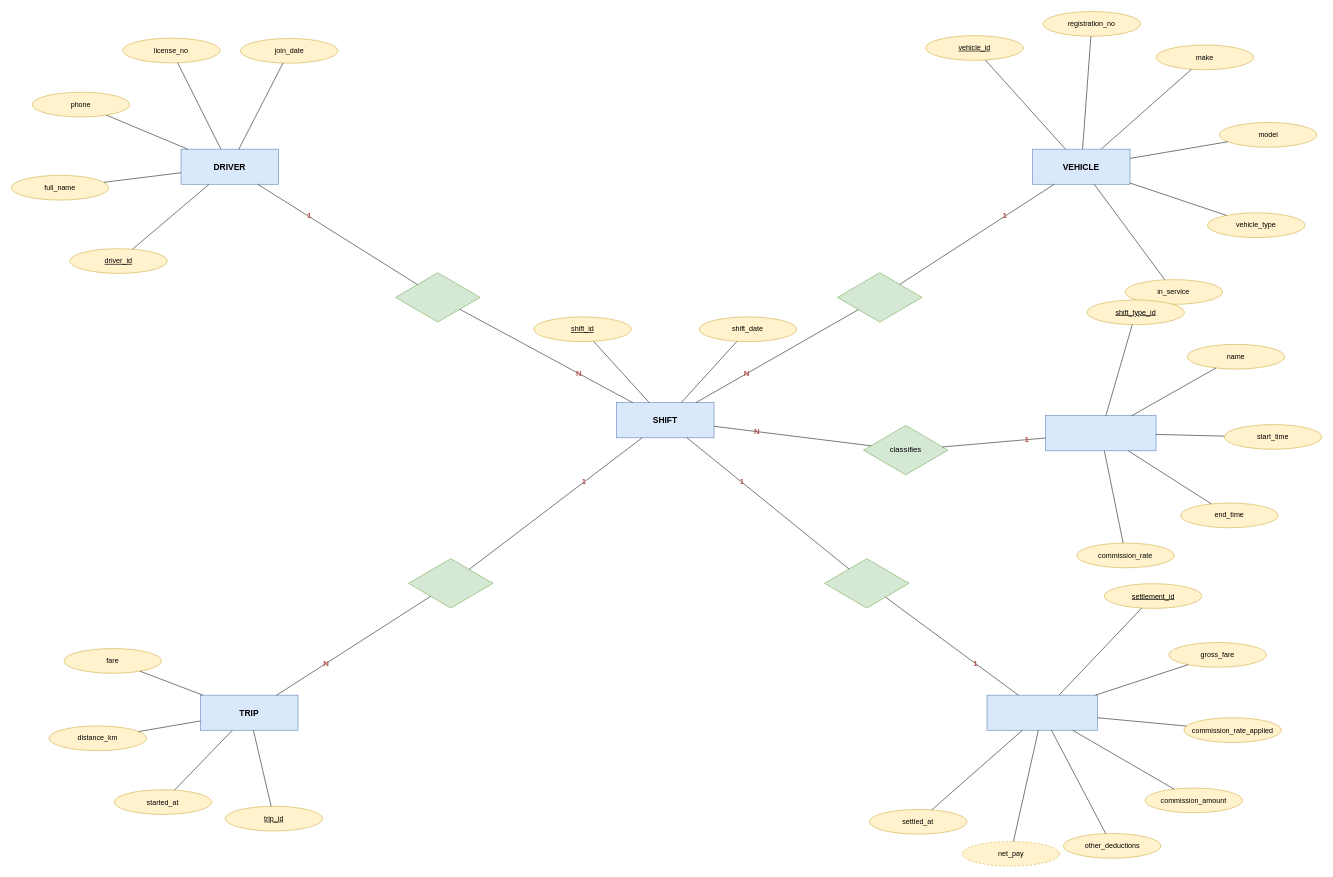
Some shapes in this 1333 by 877 pixel diagram are drawn without their labels. Here are the shapes that lost their labels. From the top down, the centre of each, then its label:
At point 437,297: "works".
At point 879,297: "assigned".
At point 1100,433: "SHIFT_TYPE".
At point 450,583: "contains".
At point 866,583: "settled_by".
At point 1042,712: "SETTLEMENT".
